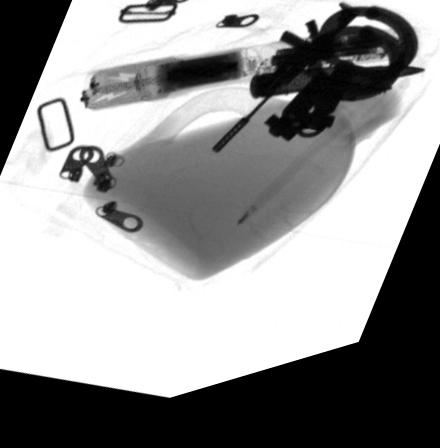Baton: (80, 50, 410, 116)
Bullet: (247, 87, 428, 113)
Gun: (209, 22, 358, 167)
HandCuffs: (263, 29, 418, 159)
